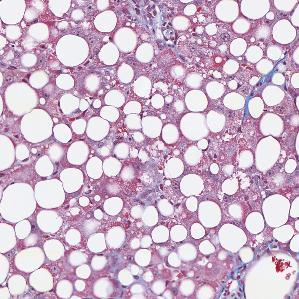fibrosis: (240, 73, 276, 104)
